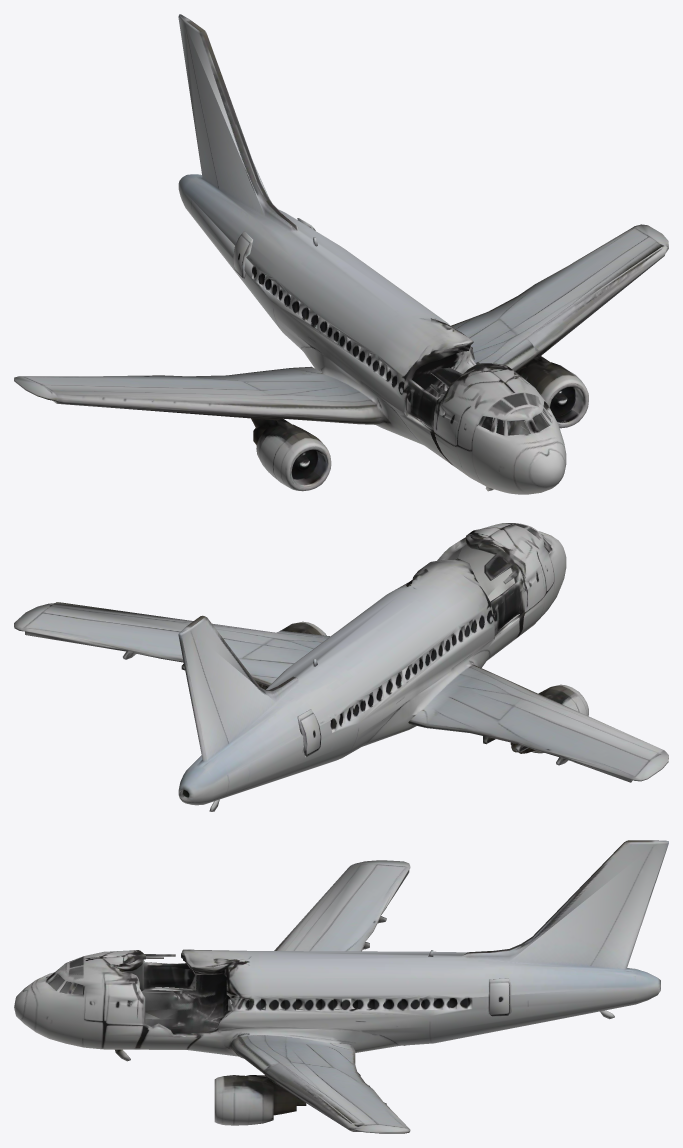
The model's file is Vehicles__broken_aeroplane_7b464903_v1.cluster.glb.
3 views of the same model, one above another, from view 1: azimuth 30°, elevation 25°; view 2: azimuth 150°, elevation 25°; view 3: azimuth 270°, elevation 25° (orthographic). The views are drawn at different scales.
Visible parts, largest first — view 1: material; view 2: material; view 3: material.
Boxes of the visible parts, x1,y1,x2,y2 form: material: [14, 14, 668, 494]; material: [14, 523, 668, 811]; material: [14, 840, 668, 1133].
Size of the model in its own units: 1.87 by 0.7245 by 1.9.
Materials: 1 (1 with a texture image).
